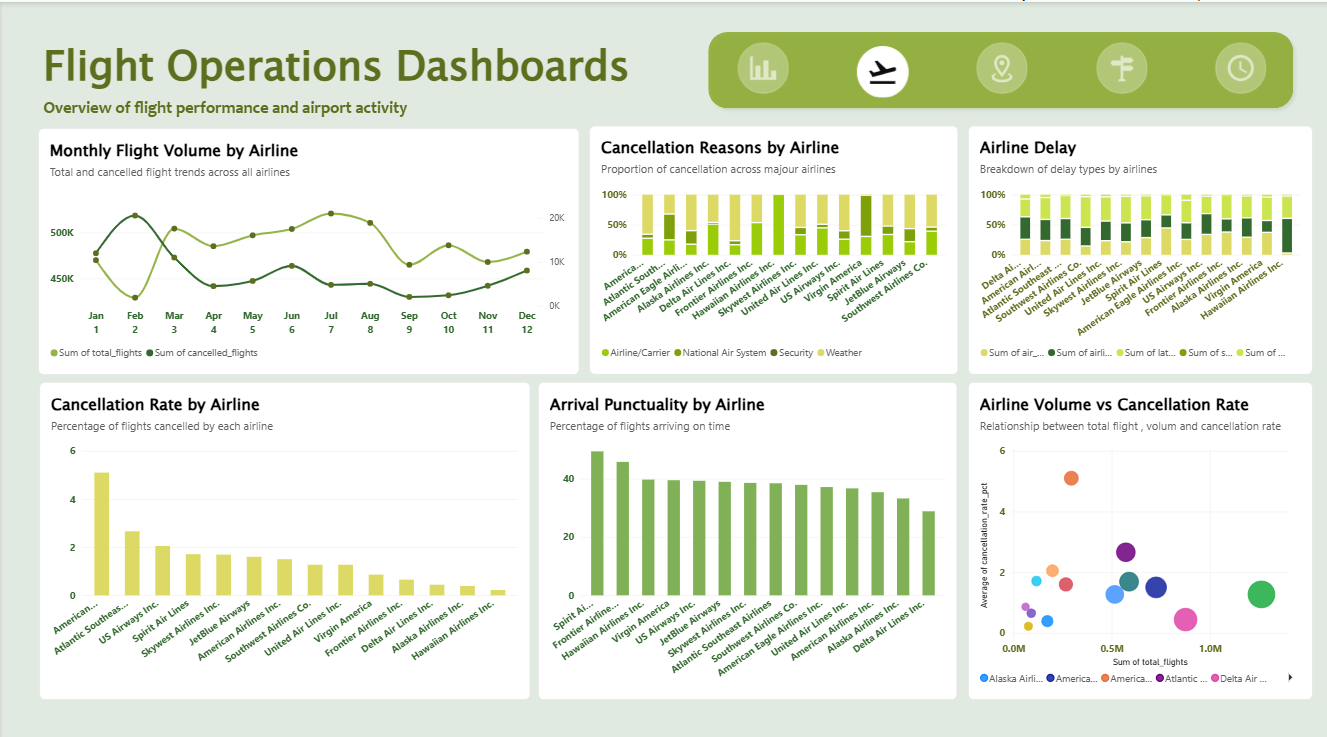

The page's visual inventory and layout, read from the dashboard file:
{"tool":"powerbi","page":{"name":"Airplane","canvas":[1920,1080],"ordinal":1},"visuals":[{"type":"lineChart","title":"Monthly Flight Volume by Airline","fields":{"Category":["vw_airline_monthly_performance.month_number","vw_airline_monthly_performance.month_name"],"Y":["Sum(vw_airline_monthly_performance.total_flights)"],"Y2":["Sum(vw_airline_monthly_performance.cancelled_flights)"]},"box":[53.3,183.3,783.3,356.7],"z":0},{"type":"clusteredColumnChart","title":"Cancellation Rate by Airline","fields":{"Category":["vw_airline_volume_vs_performance.airline_name"],"Y":["Sum(vw_airline_volume_vs_performance.cancellation_rate_pct)"]},"box":[55,550,710,460],"z":1000},{"type":"actionButton","title":"delay","box":[1719.5,48.1,148,98],"z":1500,"group":"g1"},{"type":"actionButton","title":"Route","box":[1546.5,48.1,148,98],"z":2000,"group":"g1"},{"type":"hundredPercentStackedColumnChart","title":"Cancellation Reasons by Airline","fields":{"Category":["vw_cancellation_reason_by_airline.airline_name"],"Series":["vw_cancellation_reason_by_airline.cancellation_reason_name"],"Y":["Sum(vw_cancellation_reason_by_airline.share_of_airline_cancellations_pct)"]},"box":[850,180,533.3,360],"z":2000},{"type":"actionButton","title":"airport","box":[1373.5,48.1,148,98],"z":3000,"group":"g1"},{"type":"actionButton","title":"airplane_a","box":[1202.5,59,147.5,82.5],"z":3000,"group":"g2"},{"type":"clusteredColumnChart","title":"Arrival Punctuality by Airline","fields":{"Category":["vw_arrival_punctuality_by_airline.airline_name"],"Y":["Sum(vw_arrival_punctuality_by_airline.late_arrival_rate_pct)"]},"box":[776.7,550,606.7,460],"z":3000},{"type":"hundredPercentStackedColumnChart","title":"Airline Delay","fields":{"Category":["vw_delay_cause_by_airline.airline_name"],"Y":["Sum(vw_delay_cause_by_airline.air_system_delay_minutes)","Sum(vw_delay_cause_by_airline.airline_delay_minutes)","Sum(vw_delay_cause_by_airline.late_aircraft_delay_minutes)","Sum(vw_delay_cause_by_airline.security_delay_minutes)","Sum(vw_delay_cause_by_airline.weather_delay_minutes)"]},"box":[1398,180,498,360],"z":4000},{"type":"actionButton","title":"Dash","box":[1027.5,47.5,148,98],"z":5000,"group":"g1"},{"type":"scatterChart","title":"Airline Volume vs Cancellation Rate","fields":{"Series":["vw_airline_volume_vs_performance.airline_name"],"Size":["Sum(vw_airline_volume_vs_performance.total_flights)"],"X":["Sum(vw_airline_volume_vs_performance.total_flights)"],"Y":["Avg(vw_airline_volume_vs_performance.cancellation_rate_pct)"]},"box":[1398,550,498,460],"z":5000},{"type":"shape","box":[1013.8,33.8,865,128.8],"z":6000},{"type":"group","id":"g1","title":"Group_nav_inactive","box":[1027.5,47.5,840,100],"z":7000},{"type":"group","id":"g2","title":"Group_nav_active","box":[1045,50.6,825,93.3],"z":8000},{"type":"group","id":"g3","title":"Group 1","box":[60,48,900,122],"z":8001},{"type":"textbox","box":[60,48,900,102],"z":10000,"group":"g3"},{"type":"textbox","box":[60,136,855,34],"z":11000,"group":"g3"}]}

Visuals, with their boxes in screenshot pixels (x1, y1, x2, y2), scaled from the page's 1920x1080 canvas onto the 1327x737 screenshot:
"Monthly Flight Volume by Airline" lineChart: locate(37, 125, 578, 369)
"Cancellation Rate by Airline" clusteredColumnChart: locate(38, 375, 529, 689)
"delay" actionButton: locate(1188, 33, 1291, 100)
"Route" actionButton: locate(1069, 33, 1171, 100)
"Cancellation Reasons by Airline" hundredPercentStackedColumnChart: locate(587, 123, 956, 369)
"airport" actionButton: locate(949, 33, 1052, 100)
"airplane_a" actionButton: locate(831, 40, 933, 97)
"Arrival Punctuality by Airline" clusteredColumnChart: locate(537, 375, 956, 689)
"Airline Delay" hundredPercentStackedColumnChart: locate(966, 123, 1310, 369)
"Dash" actionButton: locate(710, 32, 812, 99)
"Airline Volume vs Cancellation Rate" scatterChart: locate(966, 375, 1310, 689)
shape: locate(701, 23, 1299, 111)
"Group_nav_inactive" group: locate(710, 32, 1291, 101)
"Group_nav_active" group: locate(722, 35, 1292, 98)
"Group 1" group: locate(41, 33, 664, 116)
textbox: locate(41, 33, 664, 102)
textbox: locate(41, 93, 632, 116)
